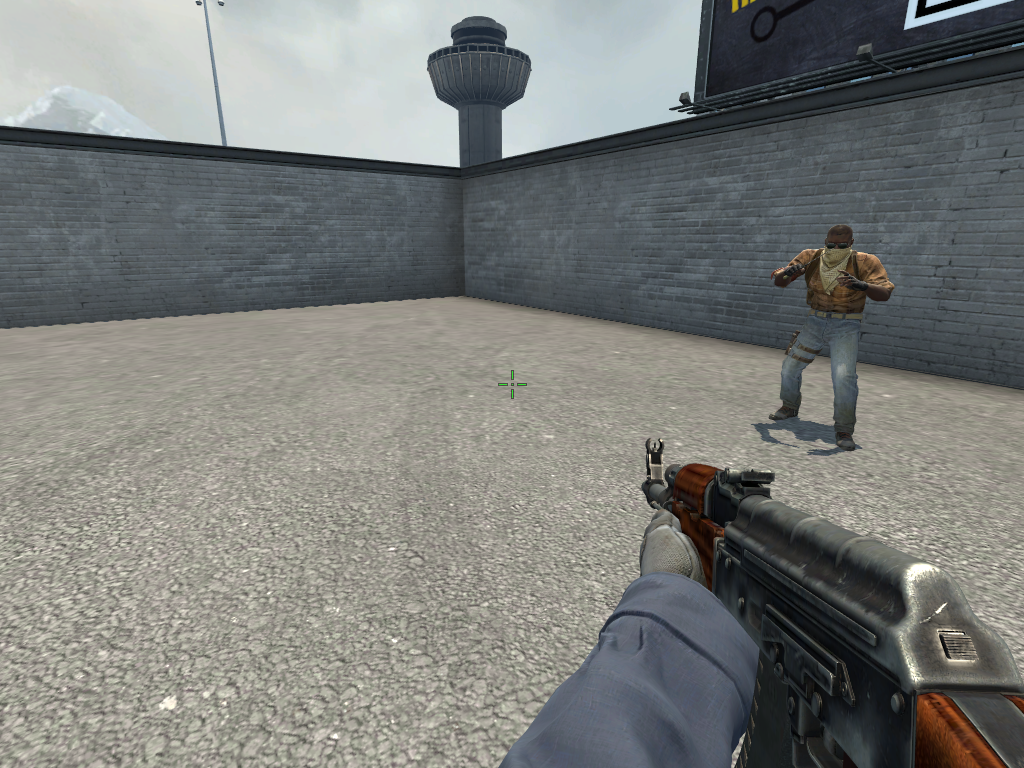tr head: (826, 225, 852, 266)
